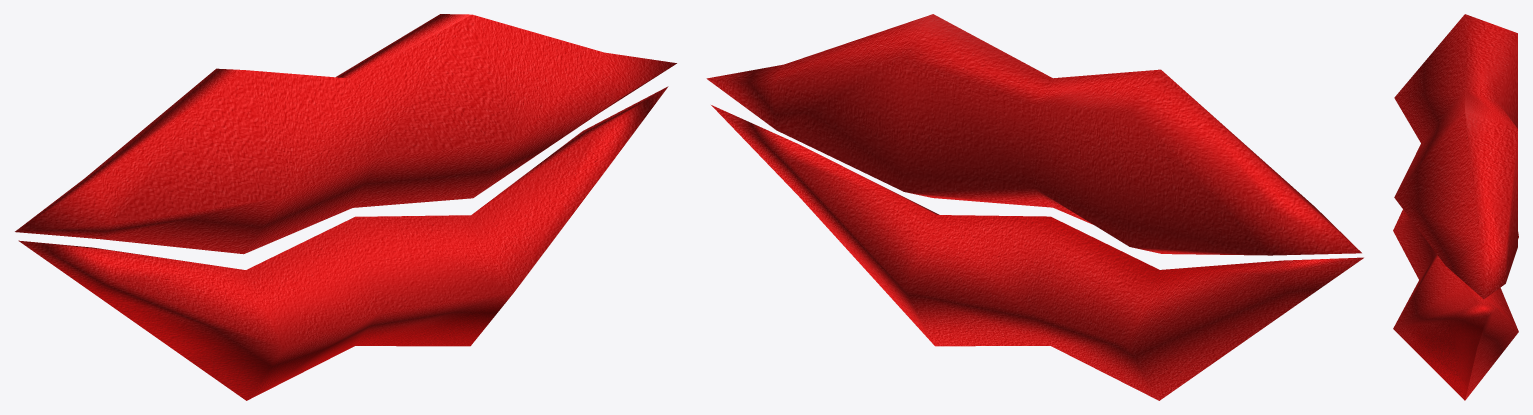
The model's file is Lips.fbx.
3 renders of one model, left to right at view 1: azimuth 30°, elevation 25°; view 2: azimuth 150°, elevation 25°; view 3: azimuth 270°, elevation 25°, orthographic. The views are drawn at different scales.
Visible parts, largest first — view 1: lips:polySurface2; view 2: lips:polySurface2; view 3: lips:polySurface2.
Boxes of the visible parts, <box> form: lips:polySurface2: <box>15,14,676,400</box>; lips:polySurface2: <box>706,14,1363,400</box>; lips:polySurface2: <box>1393,14,1518,400</box>.
Size of the model in its own units: 7.96 by 3.82 by 1.5.
